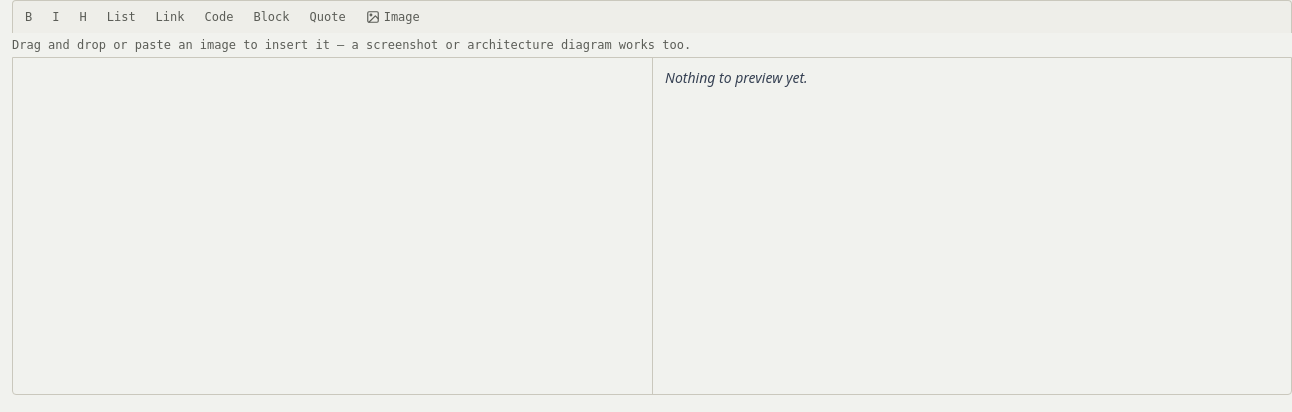
MarkdownEditor › renders a live preview of the Markdown content
Type "# Hello there" into the text box at {"x": 332, "y": 226}, box [13, 58, 652, 394]
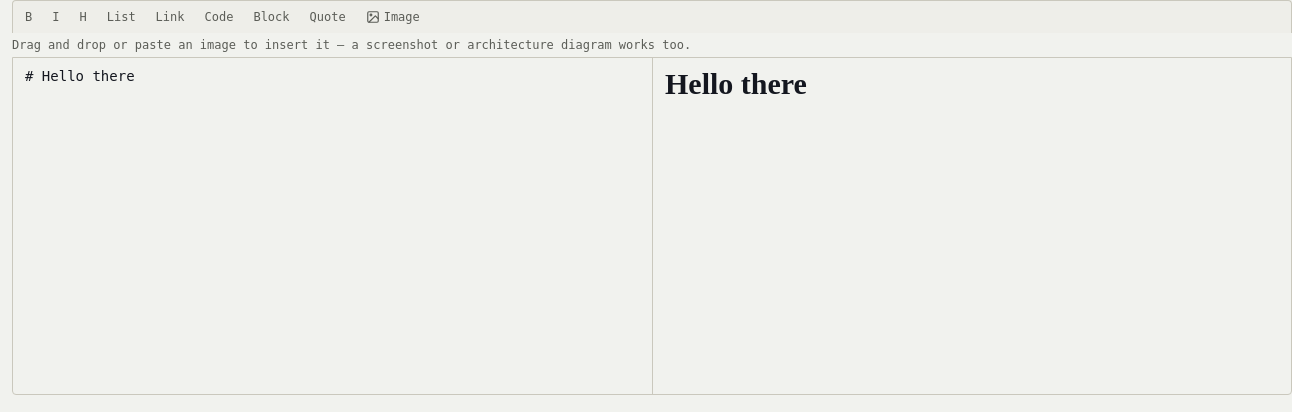
Now the heading "Hello there" is shown, box [665, 67, 807, 100]
